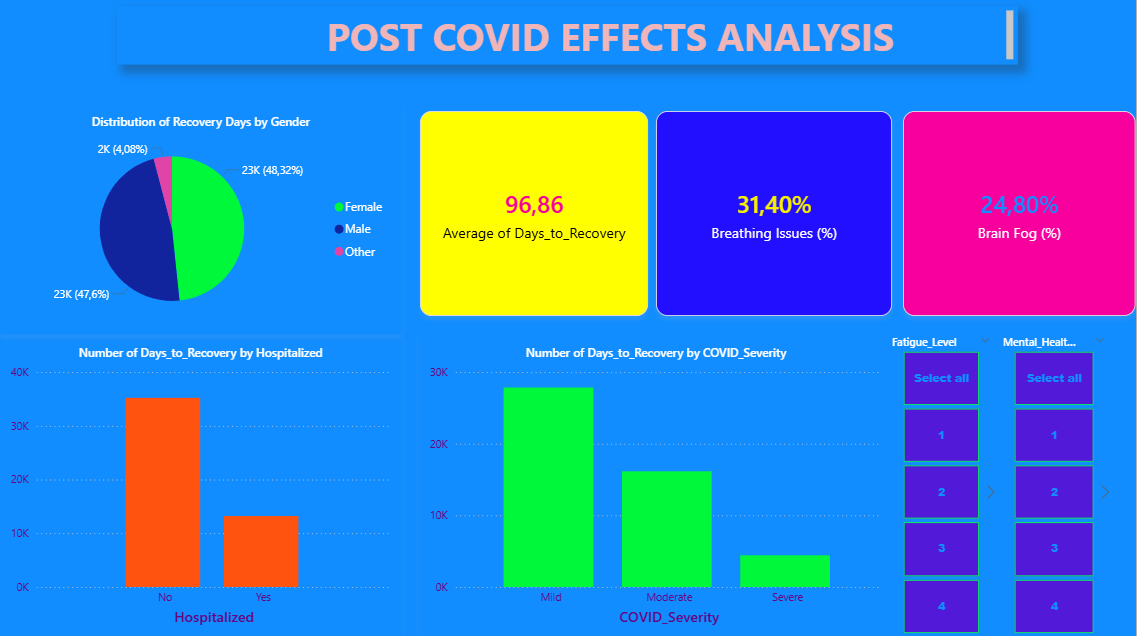

This screenshot's page, from the dashboard's own definition file:
{"tool":"powerbi","page":{"name":"Page 2","canvas":[1280,720],"ordinal":1},"visuals":[{"type":"columnChart","fields":{"Y":["Sum(post_covid_health_effects_dataset.Days_to_Recovery)"],"Category":["post_covid_health_effects_dataset.COVID_Severity"]},"box":[471.9,380.1,534,340],"z":0},{"type":"card","fields":{"Values":["Avg(post_covid_health_effects_dataset.Days_to_Recovery)"]},"box":[473.2,128,257.3,231.4],"z":1000},{"type":"columnChart","fields":{"Category":["post_covid_health_effects_dataset.Hospitalized"],"Y":["Sum(post_covid_health_effects_dataset.Days_to_Recovery)"]},"box":[0,380.1,452.5,340],"z":2000},{"type":"pieChart","fields":{"Category":["post_covid_health_effects_dataset.Gender"],"Y":["Sum(post_covid_health_effects_dataset.Days_to_Recovery)"]},"box":[0,118.9,452.5,261.2],"z":3000},{"type":"textbox","box":[131.8,10.1,1015.2,66.5],"z":5000},{"type":"card","fields":{"Values":["post_covid_health_effects_dataset.Breathing Issues (%)"]},"box":[739.6,128,266.3,231.4],"z":6000},{"type":"card","fields":{"Values":["post_covid_health_effects_dataset.Brain Fog (%)"]},"box":[1017.5,128,262.5,231.4],"z":7000},{"type":"slicer","fields":{"Values":["post_covid_health_effects_dataset.Fatigue_Level"]},"box":[996.8,380.1,125.4,338.7],"z":8000},{"type":"slicer","fields":{"Values":["post_covid_health_effects_dataset.Mental_Health_Impact"]},"box":[1122.3,380.1,129.3,338.7],"z":9000}]}

Visuals, with their boxes in screenshot pixels (x1, y1, x2, y2), scaled from the page's 1280x720 canvas onto the 1137x636 screenshot:
columnChart - Sum(post_covid_health_effects_dataset.Days_to_Recovery) x post_covid_health_effects_dataset.COVID_Severity: box(419, 336, 894, 635)
card - Avg(post_covid_health_effects_dataset.Days_to_Recovery): box(420, 113, 649, 317)
columnChart - post_covid_health_effects_dataset.Hospitalized x Sum(post_covid_health_effects_dataset.Days_to_Recovery): box(0, 336, 402, 635)
pieChart - post_covid_health_effects_dataset.Gender x Sum(post_covid_health_effects_dataset.Days_to_Recovery): box(0, 105, 402, 336)
textbox: box(117, 9, 1019, 68)
card - post_covid_health_effects_dataset.Breathing Issues (%): box(657, 113, 894, 317)
card - post_covid_health_effects_dataset.Brain Fog (%): box(904, 113, 1136, 317)
slicer - post_covid_health_effects_dataset.Fatigue_Level: box(885, 336, 997, 635)
slicer - post_covid_health_effects_dataset.Mental_Health_Impact: box(997, 336, 1112, 635)
